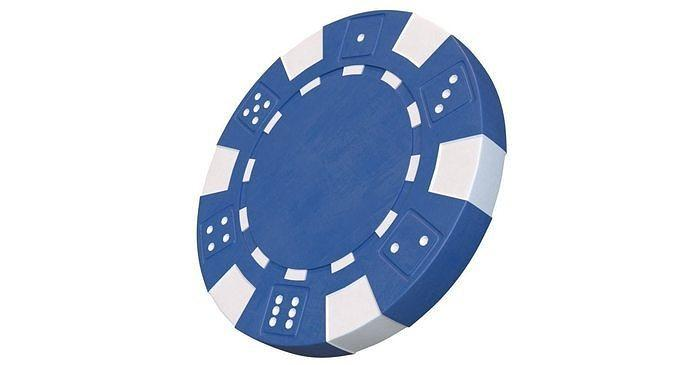chip-blue: (197, 11, 506, 356)
